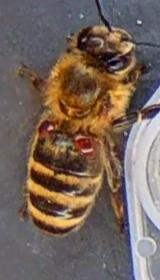varroa_mite: (68, 129, 102, 162), (31, 110, 58, 138)
